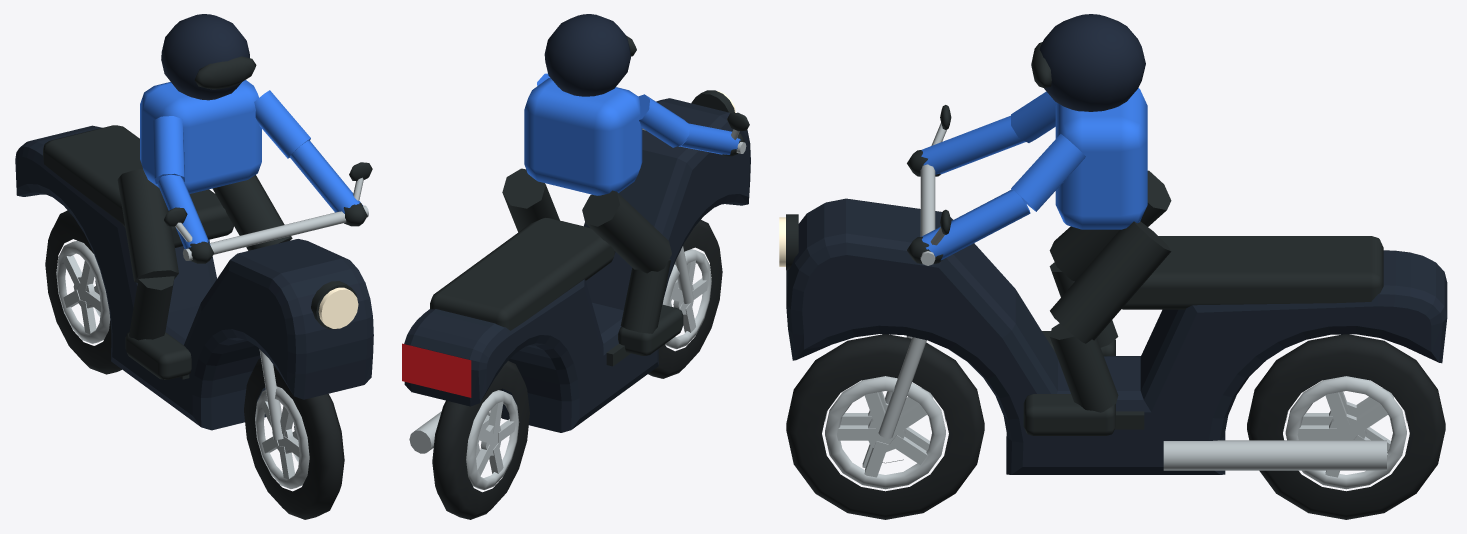
The model's file is veh.motorbike.gltf.
3 renders of one model, left to right at view 1: azimuth 30°, elevation 25°; view 2: azimuth 150°, elevation 25°; view 3: azimuth 270°, elevation 25°, orthographic. The views are drawn at different scales.
Visible parts, largest first — view 1: veh.motorbike/vehicle:car_paint:1f2937, veh.motorbike/vehicle:plastic_trim_black:242b2c, veh.motorbike/vehicle:plastic_trim_black:3b82f6, veh.motorbike/vehicle:chrome:bfc8cc, veh.motorbike/vehicle:rubber_tire:202527, veh.motorbike/vehicle:car_paint:1e293b, veh.motorbike/vehicle:lamp_lens:fff3d8; view 2: veh.motorbike/vehicle:car_paint:1f2937, veh.motorbike/vehicle:plastic_trim_black:242b2c, veh.motorbike/vehicle:plastic_trim_black:3b82f6, veh.motorbike/vehicle:rubber_tire:202527, veh.motorbike/vehicle:chrome:bfc8cc, veh.motorbike/vehicle:car_paint:1e293b, veh.motorbike/vehicle:tail_light_red:de252b; view 3: veh.motorbike/vehicle:car_paint:1f2937, veh.motorbike/vehicle:plastic_trim_black:242b2c, veh.motorbike/vehicle:rubber_tire:202527, veh.motorbike/vehicle:chrome:bfc8cc, veh.motorbike/vehicle:plastic_trim_black:3b82f6, veh.motorbike/vehicle:car_paint:1e293b.
Part boxes in pixels (left/top/right/bottom): veh.motorbike/vehicle:car_paint:1f2937: left=15, top=125, right=373, bottom=430; veh.motorbike/vehicle:plastic_trim_black:242b2c: left=43, top=56, right=372, bottom=379; veh.motorbike/vehicle:plastic_trim_black:3b82f6: left=140, top=80, right=362, bottom=248; veh.motorbike/vehicle:chrome:bfc8cc: left=56, top=177, right=368, bottom=488; veh.motorbike/vehicle:rubber_tire:202527: left=45, top=210, right=344, bottom=519; veh.motorbike/vehicle:car_paint:1e293b: left=161, top=14, right=249, bottom=100; veh.motorbike/vehicle:lamp_lens:fff3d8: left=318, top=287, right=358, bottom=328; veh.motorbike/vehicle:car_paint:1f2937: left=404, top=98, right=750, bottom=432; veh.motorbike/vehicle:plastic_trim_black:242b2c: left=430, top=36, right=749, bottom=366; veh.motorbike/vehicle:plastic_trim_black:3b82f6: left=524, top=73, right=740, bottom=195; veh.motorbike/vehicle:rubber_tire:202527: left=432, top=220, right=722, bottom=519; veh.motorbike/vehicle:chrome:bfc8cc: left=409, top=128, right=746, bottom=489; veh.motorbike/vehicle:car_paint:1e293b: left=544, top=14, right=630, bottom=96; veh.motorbike/vehicle:tail_light_red:de252b: left=402, top=343, right=471, bottom=397; veh.motorbike/vehicle:car_paint:1f2937: left=786, top=198, right=1447, bottom=474; veh.motorbike/vehicle:plastic_trim_black:242b2c: left=786, top=42, right=1383, bottom=435; veh.motorbike/vehicle:rubber_tire:202527: left=786, top=334, right=1445, bottom=519; veh.motorbike/vehicle:chrome:bfc8cc: left=825, top=123, right=1406, bottom=489; veh.motorbike/vehicle:plastic_trim_black:3b82f6: left=921, top=88, right=1147, bottom=260; veh.motorbike/vehicle:car_paint:1e293b: left=1039, top=14, right=1145, bottom=111.
Bounding box in the file's own units: 0.79 × 1.55 × 1.9.
